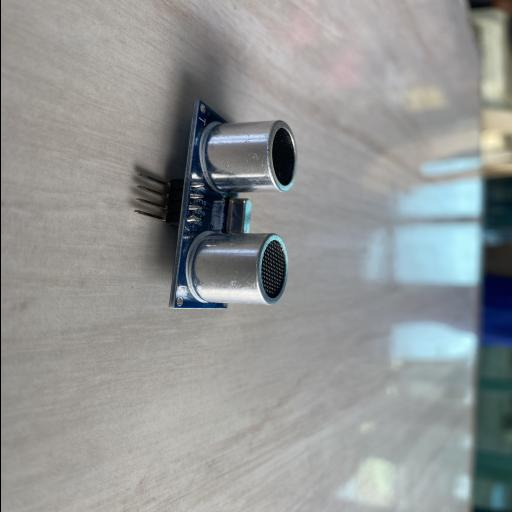Ultrasonic Sensor: (132, 99, 298, 309)
